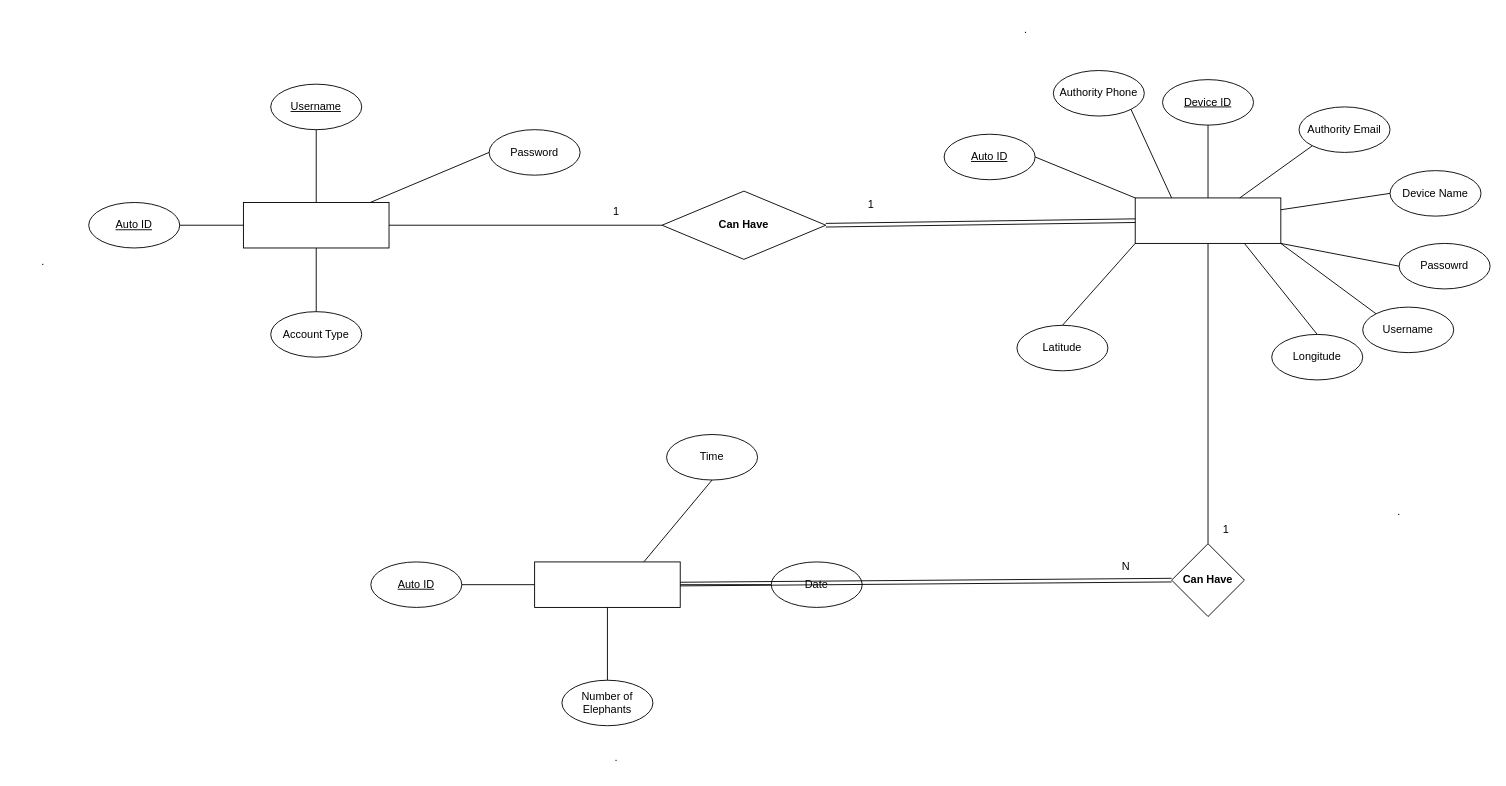
Image size: 1506x786. Some labels were removed from this diagram. The shapes that lost their labels are listed below. From the top down, each one's box as (x1, y1, x2, y2) in pixels, then its label:
(243, 202, 389, 248): User Accounts
(1134, 197, 1281, 243): Device
(534, 561, 680, 607): Detection Data
